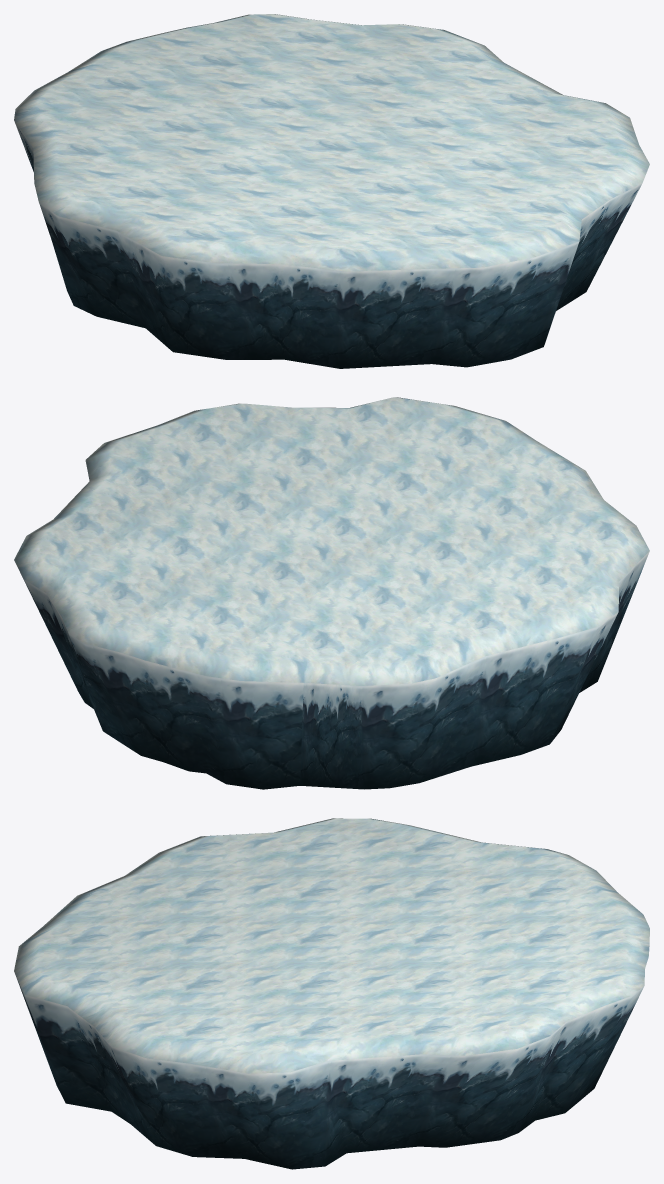
Rendered from 3-1_dikuai3.FBX.
3 renders of one model, top to bottom at view 1: azimuth 30°, elevation 25°; view 2: azimuth 150°, elevation 25°; view 3: azimuth 270°, elevation 25°, orthographic. The views are drawn at different scales.
Parts seen in each view (by area): view 1: 3-1_dikuai3; view 2: 3-1_dikuai3; view 3: 3-1_dikuai3.
Boxes of the visible parts, x1,y1,x2,y2 form: 3-1_dikuai3: [14, 14, 649, 368]; 3-1_dikuai3: [14, 397, 649, 789]; 3-1_dikuai3: [14, 818, 649, 1169].
Size of the model in its own units: 6099 by 1405 by 6419.
